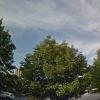Tree: (22, 32, 100, 100)
